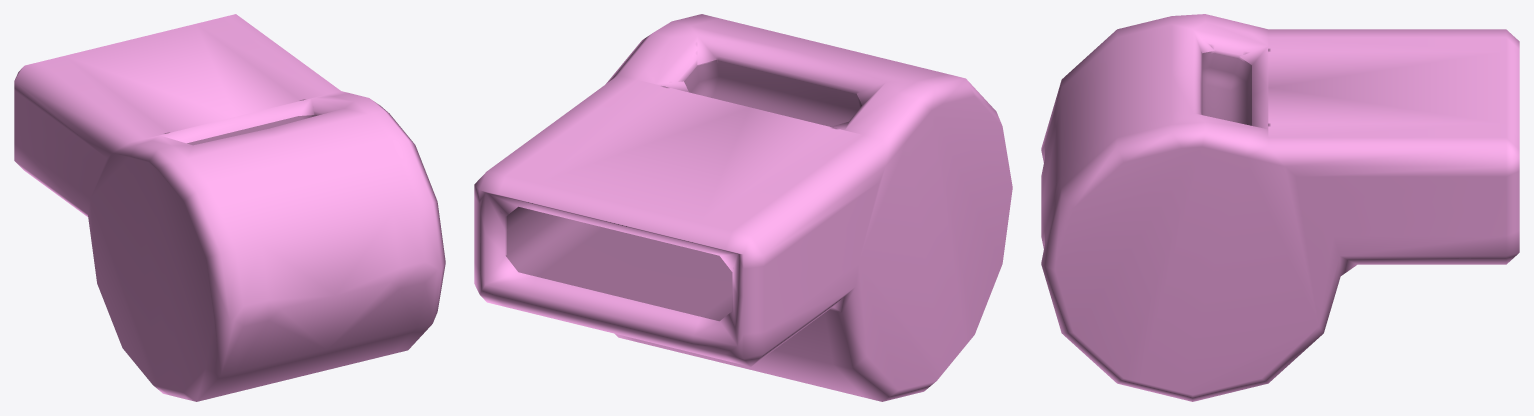
The model's file is whistle.fbx.
The picture shows the model from 3 angles, left to right: view 1: azimuth 30°, elevation 25°; view 2: azimuth 150°, elevation 25°; view 3: azimuth 270°, elevation 25°; orthographic projection. The views are drawn at different scales.
Visible parts, largest first — view 1: whistle; view 2: whistle; view 3: whistle.
Part boxes in pixels (x1,y1,x2,y2): whistle: (14, 14, 445, 401); whistle: (474, 14, 1012, 401); whistle: (1041, 14, 1519, 401).
Bounding box in the file's own units: 0.3669 × 0.5795 × 0.3642.
